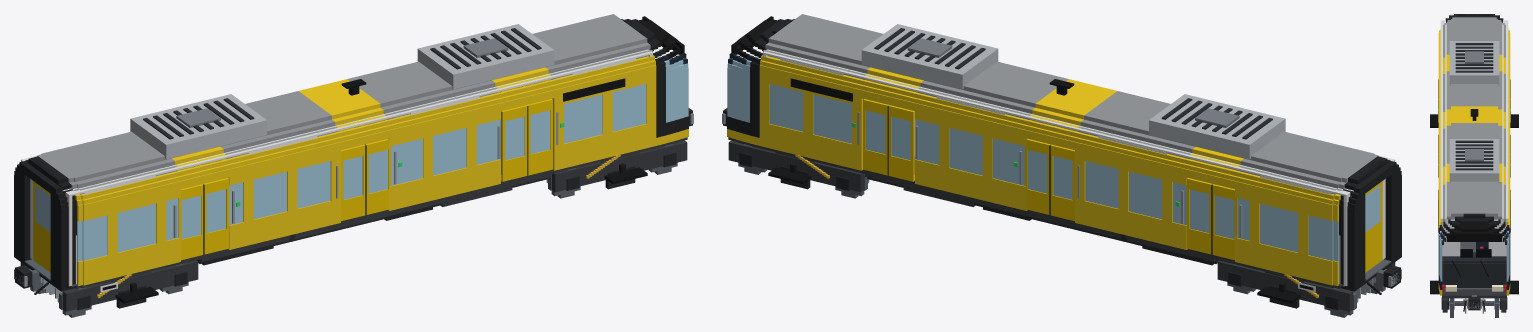
The model's file is berlin_ik_front.obj.
3 renders of one model, left to right at view 1: azimuth 30°, elevation 25°; view 2: azimuth 150°, elevation 25°; view 3: azimuth 270°, elevation 25°, orthographic. The views are drawn at different scales.
Parts seen in each view (by area): view 1: SHELL, SHELL_roof, SHELL_diaphragm, SHELL_ceiling, BOGEY_FRONT, BOGEY_REAR, EXTERNAL_DOOR_15_CG_DR3_TOGGLE_TL_-0.59_X, EXTERNAL_DOOR_9_CG_DR2_TOGGLE_TL_-0.59_X, EXTERNAL_DOOR_3_CG_DR1_TOGGLE_TL_-0.59_X, EXTERNAL_DOOR_4_CG_DR1_TOGGLE_TL_0.59_X, EXTERNAL_DOOR_16_CG_DR3_TOGGLE_TL_0.59_X, EXTERNAL_DOOR_10_CG_DR2_TOGGLE_TL_0.59_X (+7 smaller); view 2: SHELL, SHELL_roof, SHELL_diaphragm, SHELL_ceiling, BOGEY_FRONT, BOGEY_REAR, EXTERNAL_DOOR_18_CG_DL3_TOGGLE_TL_-0.59_X, EXTERNAL_DOOR_12_CG_DL2_TOGGLE_TL_-0.59_X, EXTERNAL_DOOR_6_CG_DL1_TOGGLE_TL_-0.59_X, EXTERNAL_DOOR_7_CG_DL1_TOGGLE_TL_0.59_X, EXTERNAL_DOOR_19_CG_DL3_TOGGLE_TL_0.59_X, EXTERNAL_DOOR_13_CG_DL2_TOGGLE_TL_0.59_X (+7 smaller); view 3: SHELL, SHELL_roof, SHELL_desk, SHELL_ceiling, SHELL_cabwall, BOGEY_FRONT, SHELL_destbox, BOGEY_FRONT_WHEEL_2, FRAME, SHELL_handle, BOGEY_REAR, SHELL_floor (+2 smaller).
Boxes of the visible parts, x1,y1,x2,y2 form: SHELL: [25, 14, 688, 289]; SHELL_roof: [130, 24, 554, 159]; SHELL_diaphragm: [14, 161, 66, 291]; SHELL_ceiling: [23, 50, 649, 195]; BOGEY_FRONT: [551, 140, 687, 192]; BOGEY_REAR: [20, 260, 198, 311]; EXTERNAL_DOOR_15_CG_DR3_TOGGLE_TL_-0.59_X: [501, 105, 528, 181]; EXTERNAL_DOOR_9_CG_DR2_TOGGLE_TL_-0.59_X: [341, 144, 366, 221]; EXTERNAL_DOOR_3_CG_DR1_TOGGLE_TL_-0.59_X: [178, 184, 204, 260]; EXTERNAL_DOOR_4_CG_DR1_TOGGLE_TL_0.59_X: [204, 178, 229, 254]; EXTERNAL_DOOR_16_CG_DR3_TOGGLE_TL_0.59_X: [527, 99, 552, 175]; EXTERNAL_DOOR_10_CG_DR2_TOGGLE_TL_0.59_X: [365, 139, 390, 214]; SHELL: [727, 14, 1390, 289]; SHELL_roof: [861, 24, 1285, 159]; SHELL_diaphragm: [1349, 161, 1401, 291]; SHELL_ceiling: [766, 50, 1392, 195]; BOGEY_FRONT: [728, 140, 864, 192]; BOGEY_REAR: [1217, 260, 1395, 311]; EXTERNAL_DOOR_18_CG_DL3_TOGGLE_TL_-0.59_X: [887, 105, 914, 181]; EXTERNAL_DOOR_12_CG_DL2_TOGGLE_TL_-0.59_X: [1049, 144, 1074, 221]; EXTERNAL_DOOR_6_CG_DL1_TOGGLE_TL_-0.59_X: [1211, 184, 1237, 260]; EXTERNAL_DOOR_7_CG_DL1_TOGGLE_TL_0.59_X: [1186, 178, 1211, 254]; EXTERNAL_DOOR_19_CG_DL3_TOGGLE_TL_0.59_X: [863, 99, 888, 175]; EXTERNAL_DOOR_13_CG_DL2_TOGGLE_TL_0.59_X: [1025, 139, 1050, 214]; SHELL: [1438, 14, 1510, 298]; SHELL_roof: [1449, 41, 1499, 183]; SHELL_desk: [1442, 249, 1506, 287]; SHELL_ceiling: [1440, 21, 1508, 217]; SHELL_cabwall: [1440, 217, 1508, 256]; BOGEY_FRONT: [1430, 280, 1518, 312]; SHELL_destbox: [1447, 233, 1501, 241]; BOGEY_FRONT_WHEEL_2: [1449, 298, 1499, 317]; FRAME: [1463, 295, 1485, 311]; SHELL_handle: [1438, 79, 1510, 232]; BOGEY_REAR: [1430, 114, 1518, 127]; SHELL_floor: [1444, 242, 1504, 289].
Bounding box in the file's own units: 17.24 × 3.76 × 2.84.
1 material, 1 textured.
